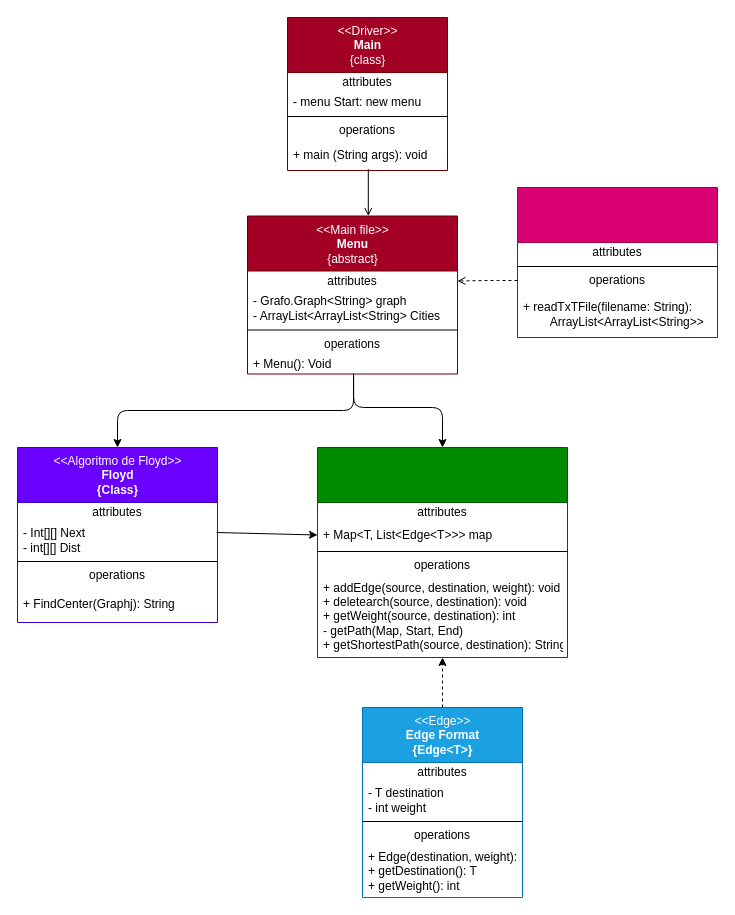
The diagram is 735 pixels wide and 915 high, and some of its shapes have lost their labels. The box of each missing label's shape, as (x1, y1, x2, y2) in pixels:
<<To read files>> TxtReader {class}: (516, 186, 718, 338)
<<Weghted graph>> Grafo {HashMap<T>}: (316, 446, 568, 658)
